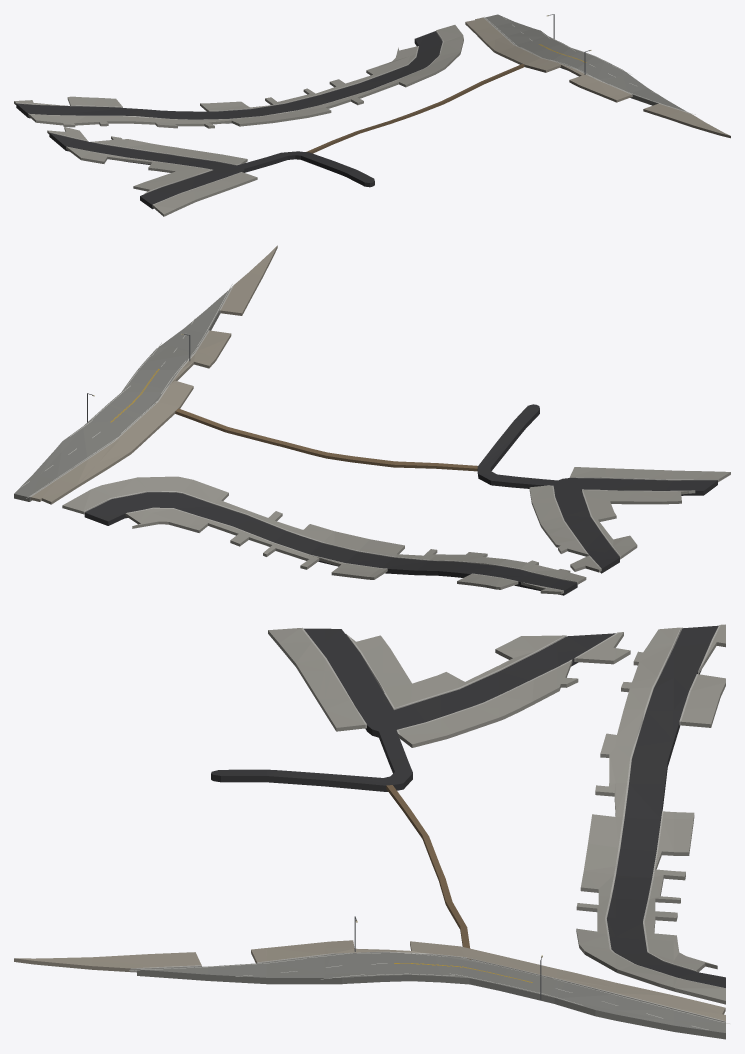
The model's file is 18-218853-118943.daa427f7.glb.
3 views of the same model, one above another, from view 1: azimuth 30°, elevation 25°; view 2: azimuth 150°, elevation 25°; view 3: azimuth 270°, elevation 25° (orthographic). The views are drawn at different scales.
Size of the model in its own units: 147 by 22.53 by 123.
